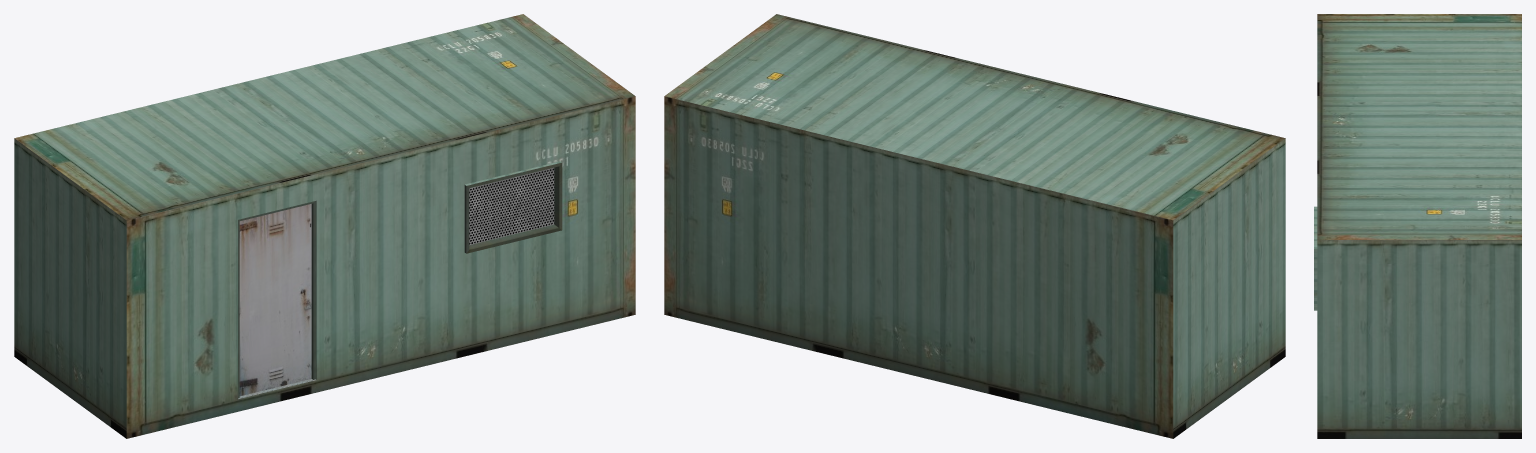
The model's file is Shed.glb.
The picture shows the model from 3 angles, left to right: view 1: azimuth 30°, elevation 25°; view 2: azimuth 150°, elevation 25°; view 3: azimuth 270°, elevation 25°; orthographic projection. The views are drawn at different scales.
Parts seen in each view (by area): view 1: Ca, Cube.001, Cube.004, Cube.003, Cube.002; view 2: Ca; view 3: Ca, Cube.003.
Boxes of the visible parts, left/top/right/bottom form: Ca: left=14, top=14, right=635, bottom=438; Cube.001: left=239, top=204, right=311, bottom=396; Cube.004: left=469, top=167, right=554, bottom=244; Cube.003: left=464, top=161, right=562, bottom=253; Cube.002: left=238, top=201, right=315, bottom=398; Ca: left=664, top=14, right=1285, bottom=438; Ca: left=1317, top=14, right=1521, bottom=438; Cube.003: left=1314, top=206, right=1317, bottom=310.
Size of the model in its own units: 12.95 by 5.31 by 5.03.
15 materials, 14 textured.
